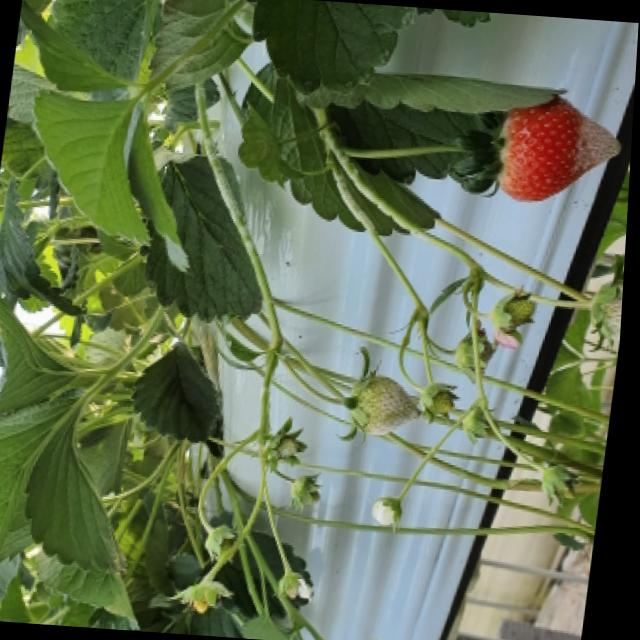Powdery Mildew Fruit: (495, 95, 622, 204), (353, 377, 422, 436), (597, 272, 627, 344)
